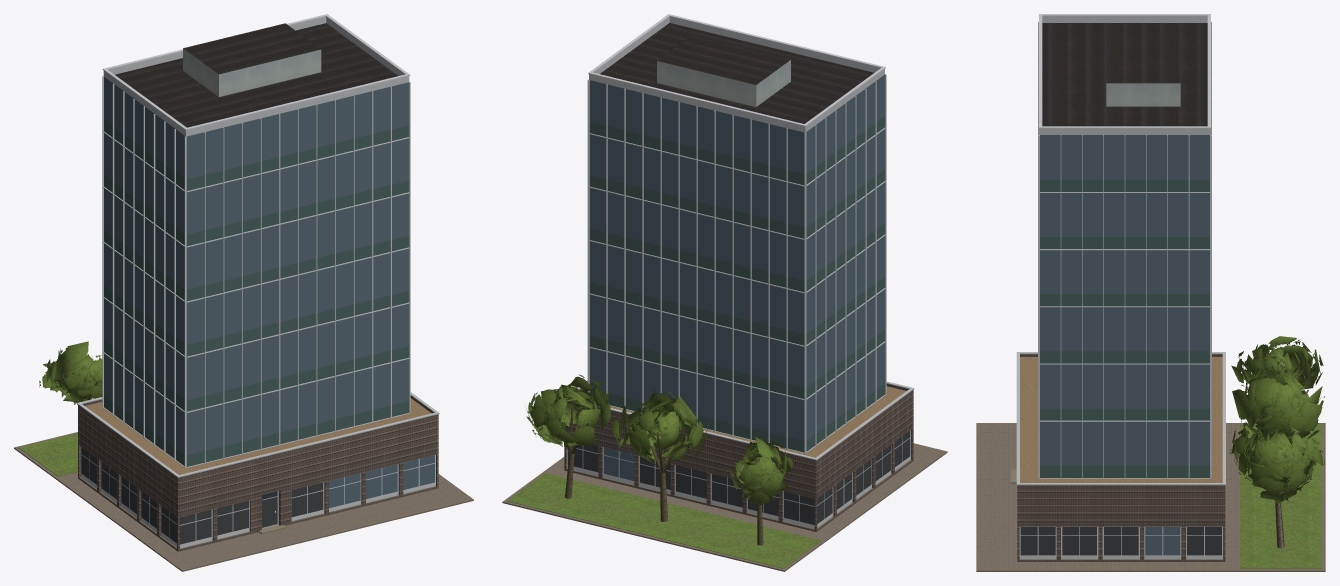
The model's file is office_glass.glb.
The picture shows the model from 3 angles, left to right: view 1: azimuth 30°, elevation 25°; view 2: azimuth 150°, elevation 25°; view 3: azimuth 270°, elevation 25°; orthographic projection. The views are drawn at different scales.
Parts seen in each view (by area): view 1: office_glass_body, office_glass_foliage; view 2: office_glass_body, office_glass_foliage; view 3: office_glass_body, office_glass_foliage.
Boxes of the visible parts, <box> form: office_glass_body: <box>14,14,473,571</box>; office_glass_foliage: <box>39,341,102,404</box>; office_glass_body: <box>502,14,947,571</box>; office_glass_foliage: <box>526,374,793,504</box>; office_glass_body: <box>976,14,1325,571</box>; office_glass_foliage: <box>1230,336,1325,503</box>.
Bounding box in the file's own units: 0.94 × 1.32 × 0.94.
Materials: 18 (10 with a texture image).
